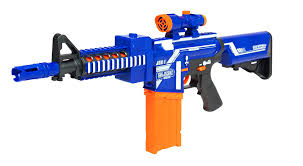gun: (11, 6, 277, 159)
